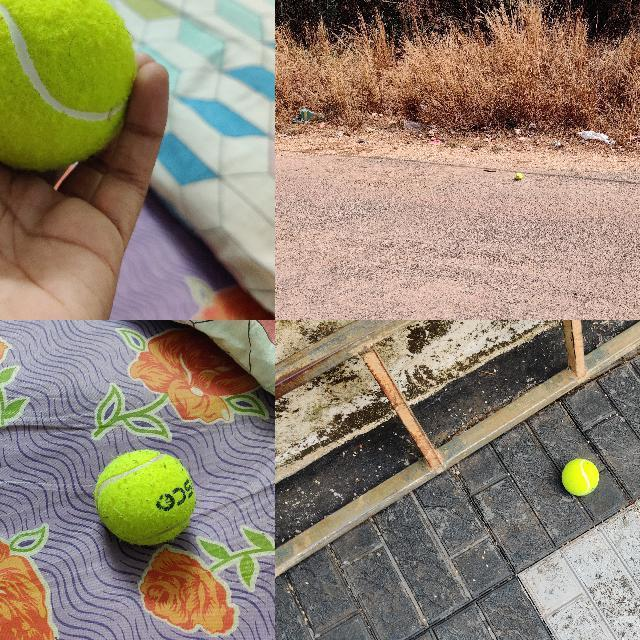tennis-ball: (0, 0, 139, 174), (95, 449, 196, 545), (561, 458, 599, 496), (516, 173, 523, 180)
